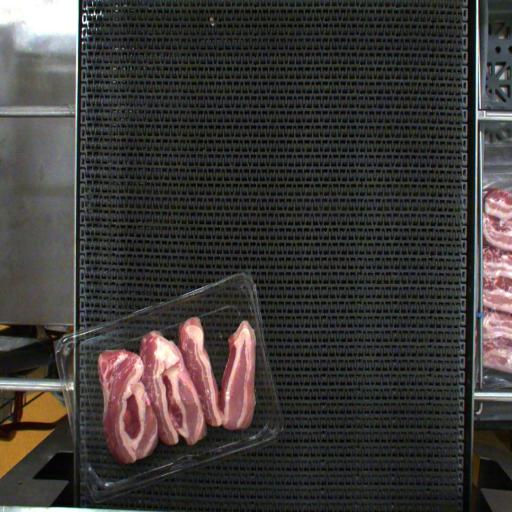loose-meat: (225, 318, 261, 432)
